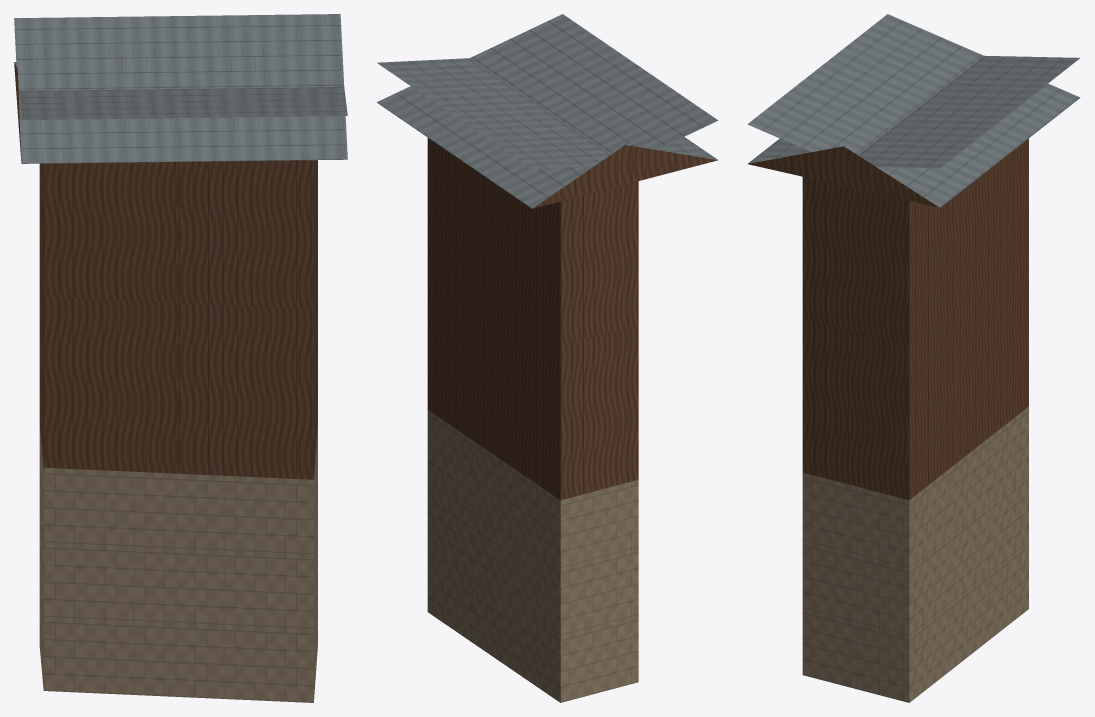
The model's file is bld_c40_-49_464.gltf.
3 views of the same model, side by side, from view 1: azimuth 30°, elevation 25°; view 2: azimuth 150°, elevation 25°; view 3: azimuth 270°, elevation 25° (orthographic). The views are drawn at different scales.
Parts seen in each view (by area): view 1: bld_c40_-49_464; view 2: bld_c40_-49_464; view 3: bld_c40_-49_464.
Part boxes in pixels (box(x1,y1,x2,y2)): bld_c40_-49_464: box(14, 14, 347, 702); bld_c40_-49_464: box(377, 14, 718, 702); bld_c40_-49_464: box(747, 14, 1080, 702).
Size of the model in its own units: 8.33 by 13.9 by 7.61.
4 materials, 4 textured.
